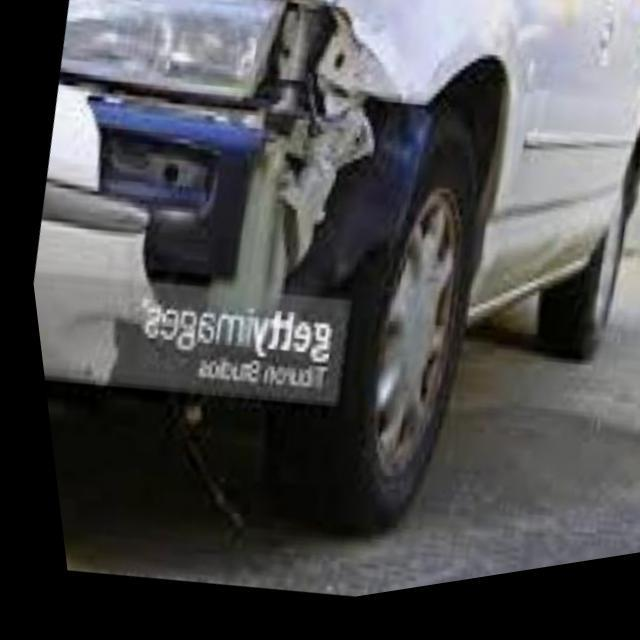no part: (26, 0, 463, 410)
